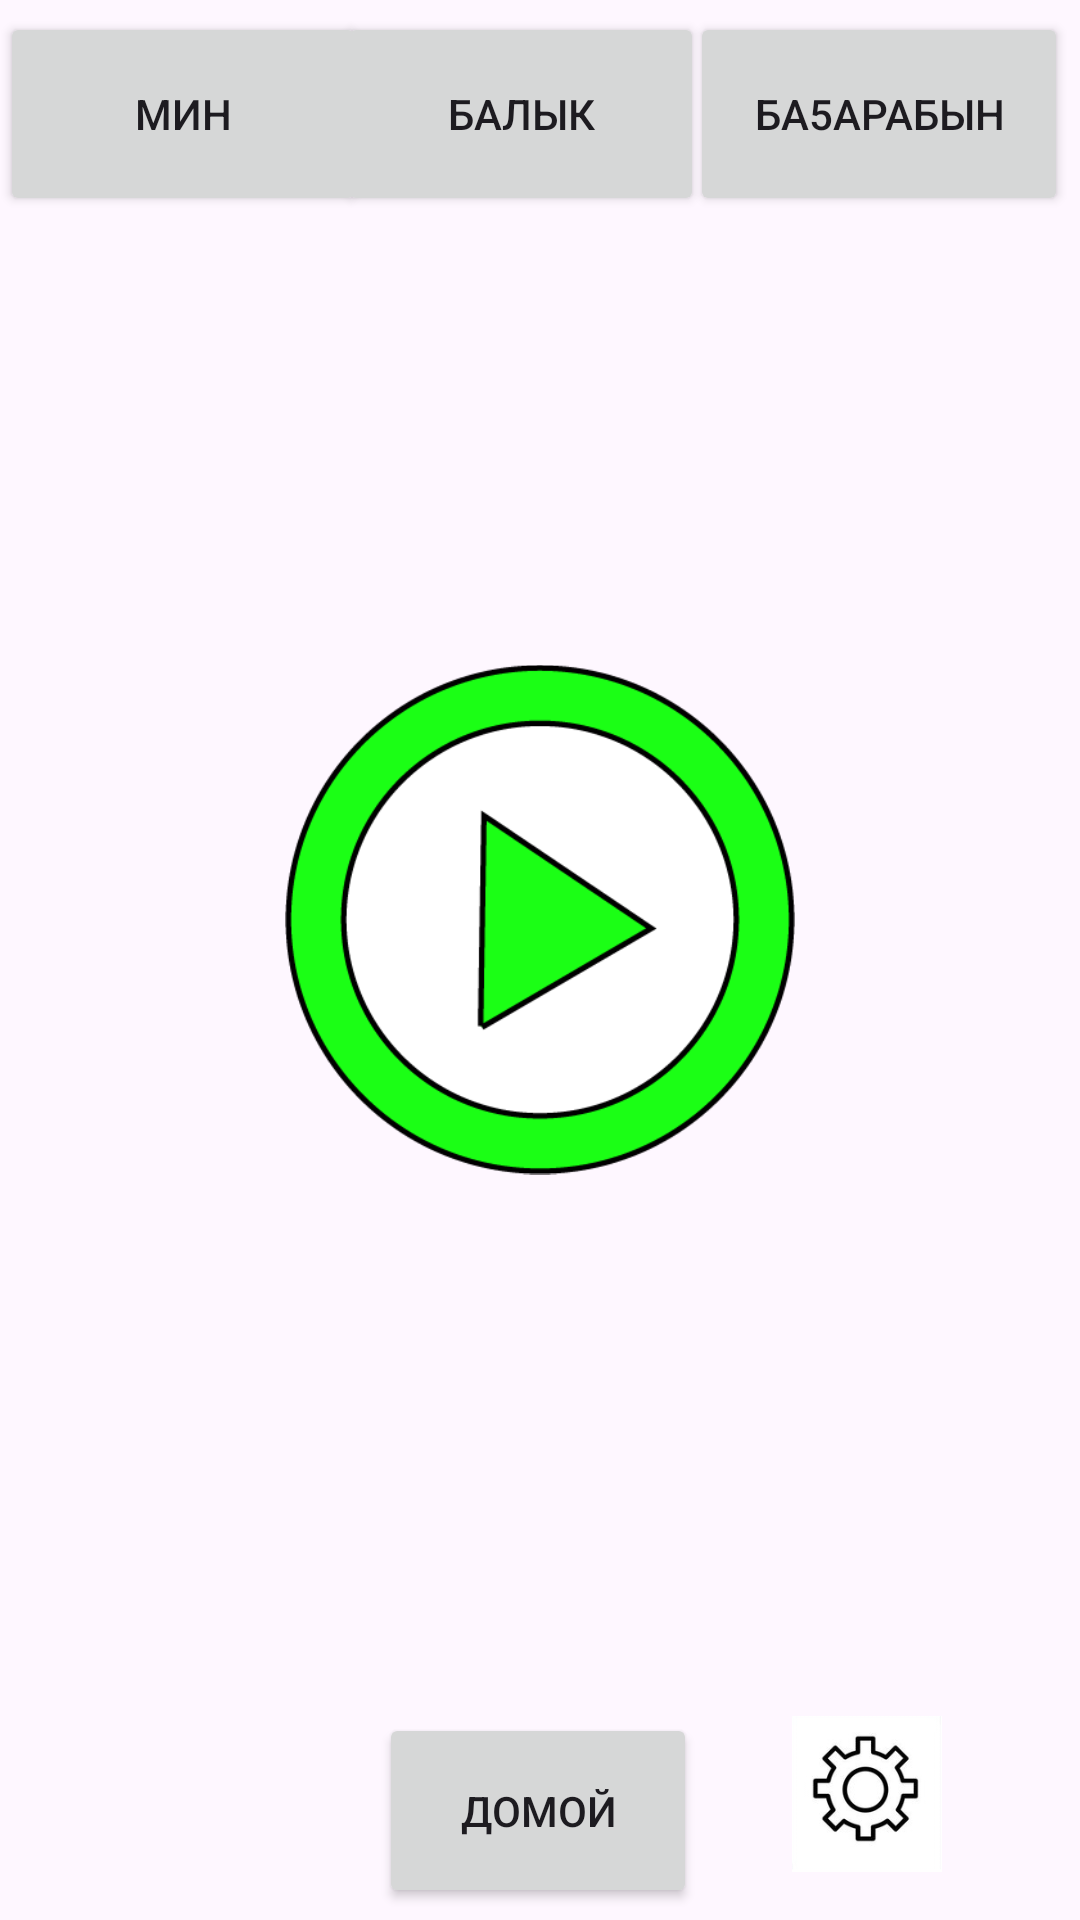

Where to tap for icons on this 1080px x 1920px app screen, as point (x, y):
settings: point (865, 1789)
